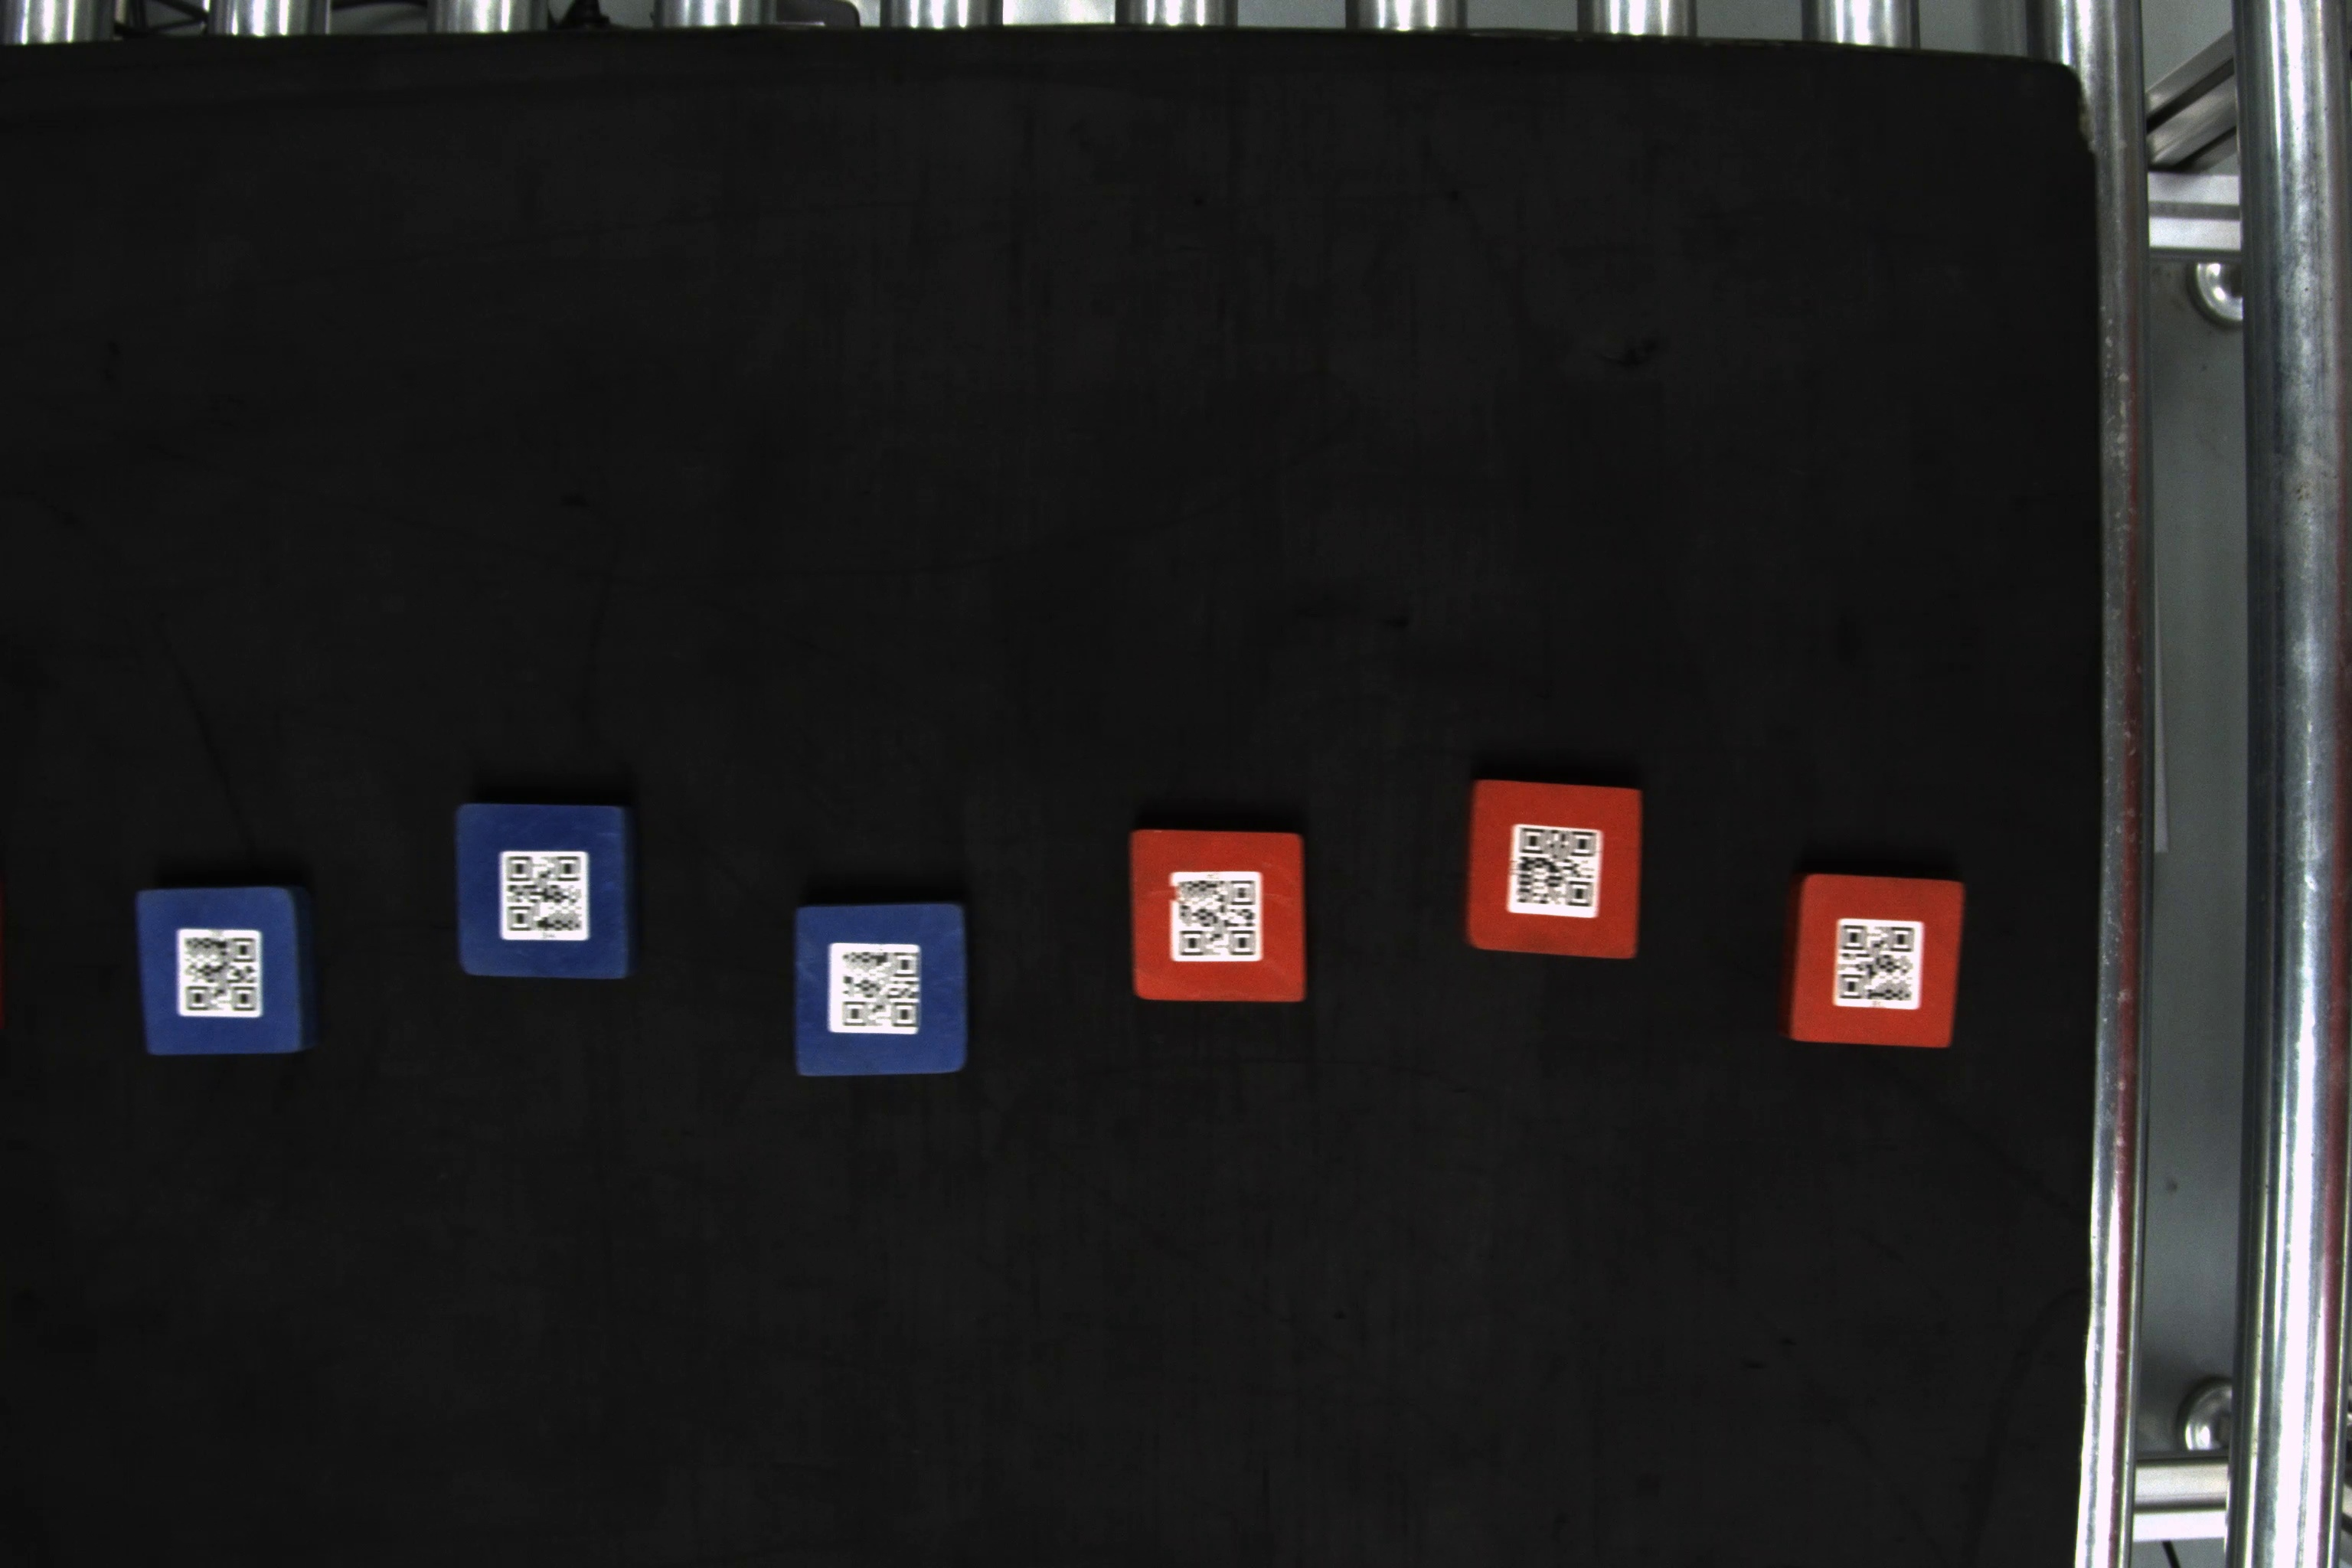wood: (1459, 772, 1648, 961), (448, 796, 639, 982), (1781, 868, 1969, 1053), (789, 896, 976, 1078), (1127, 826, 1311, 1004), (129, 885, 313, 1062)
